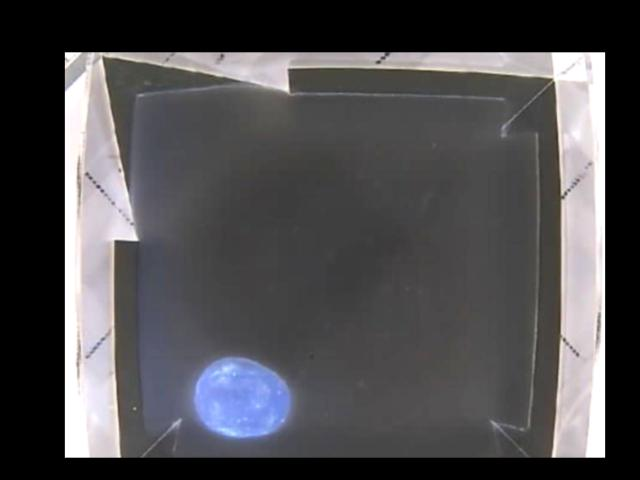Potato: (196, 355, 291, 435)
